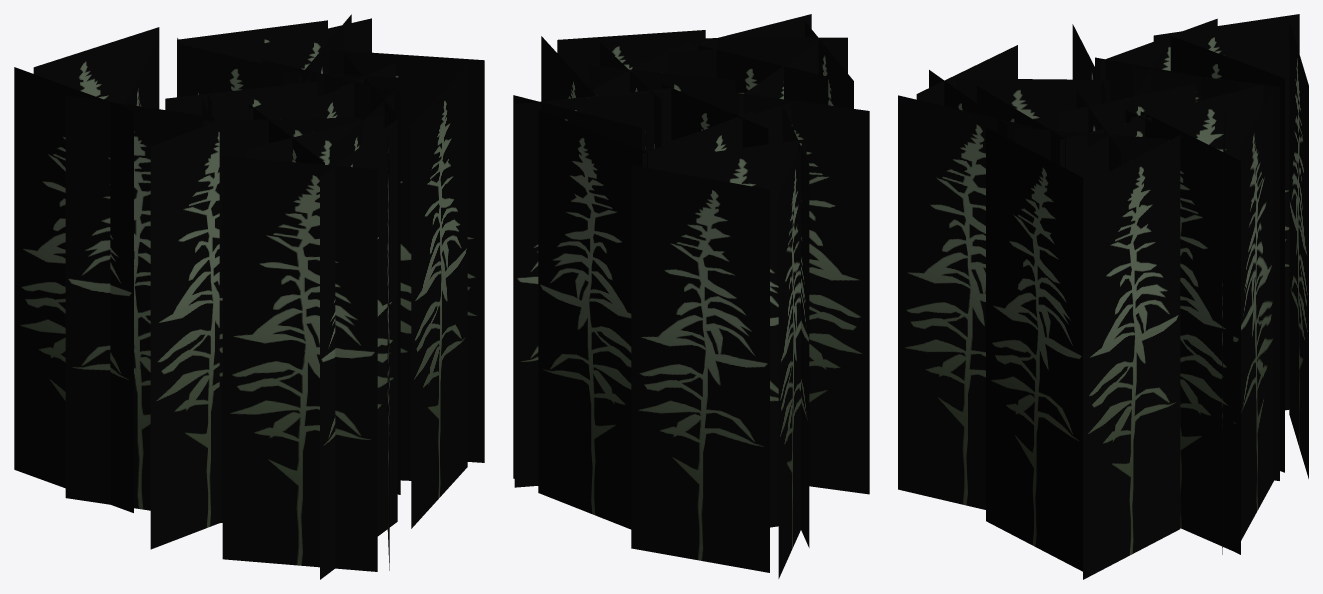
Rendered from space_weed_1.fbx.
3 views of the same model, side by side, from view 1: azimuth 30°, elevation 25°; view 2: azimuth 150°, elevation 25°; view 3: azimuth 270°, elevation 25° (orthographic). The views are drawn at different scales.
Parts seen in each view (by area): view 1: Cube_35; view 2: Cube_35; view 3: Cube_35.
Part boxes in pixels (x1,y1,x2,y2): Cube_35: [14, 14, 484, 579]; Cube_35: [513, 14, 869, 578]; Cube_35: [898, 14, 1308, 579].
Bounding box in the file's own units: 98.47 × 105 × 99.54.
1 material, 1 textured.
